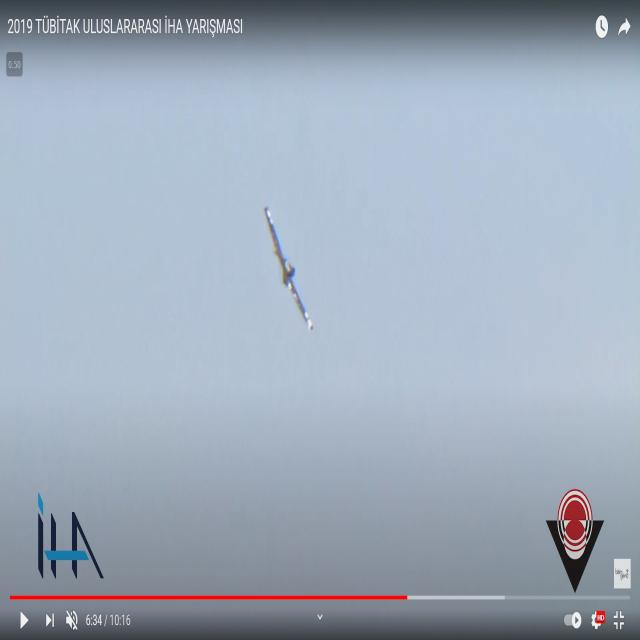iha: (263, 231, 314, 293)
